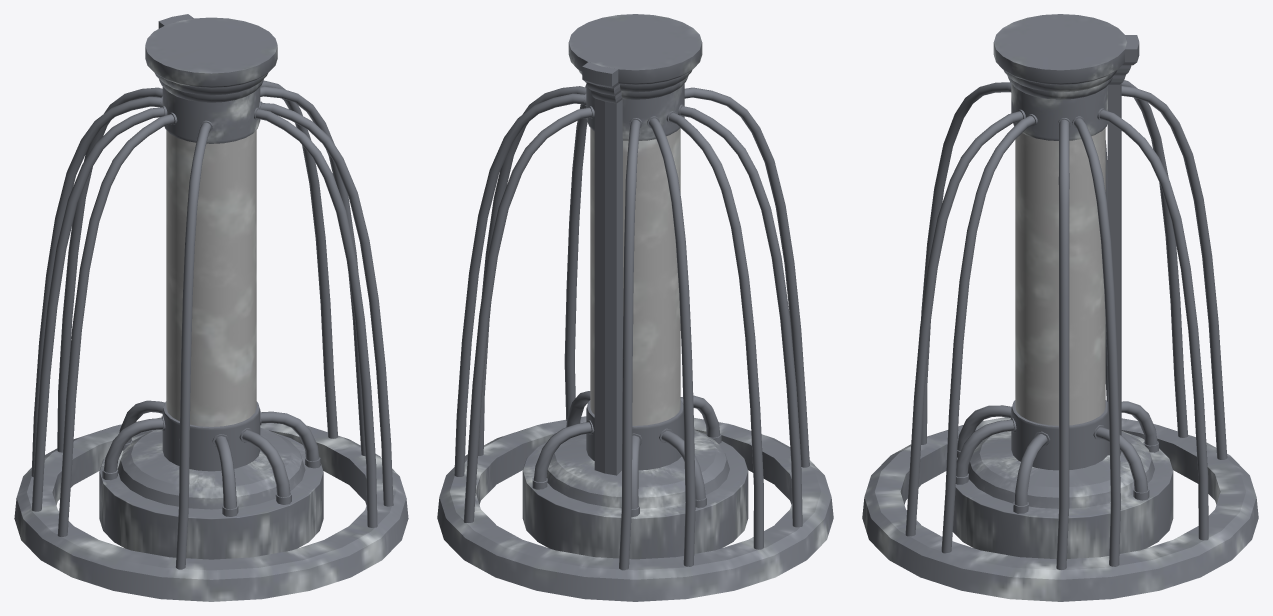
File: monster_capsule_s.fbx
3 renders of one model, left to right at view 1: azimuth 30°, elevation 25°; view 2: azimuth 150°, elevation 25°; view 3: azimuth 270°, elevation 25°, orthographic.
Parts seen in each view (by area): view 1: monster_capsule_s; view 2: monster_capsule_s; view 3: monster_capsule_s.
Boxes of the visible parts, x1,y1,x2,y2 form: monster_capsule_s: [14, 14, 408, 601]; monster_capsule_s: [437, 14, 833, 601]; monster_capsule_s: [862, 14, 1258, 601].
Bounding box in the file's own units: 358 × 474 × 358.
Materials: 1 (1 with a texture image).
